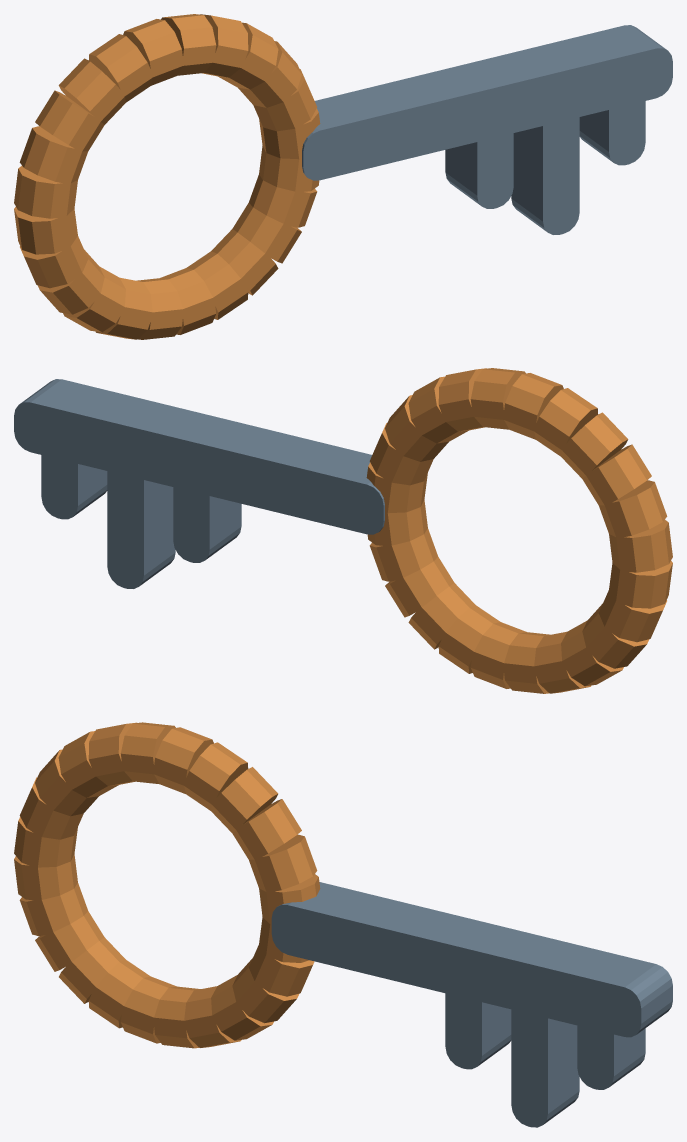
File: key.glb
3 renders of one model, top to bottom at view 1: azimuth 30°, elevation 25°; view 2: azimuth 150°, elevation 25°; view 3: azimuth 330°, elevation 25°, orthographic.
Parts seen in each view (by area): view 1: shaft, tooth 1, tooth 0, tooth 2, key ring10, key ring7, key ring8, key ring9, key ring11, key ring6, key ring12, key ring5 (+16 smaller); view 2: shaft, tooth 1, tooth 0, tooth 2, key ring10, key ring7, key ring8, key ring9, key ring11, key ring6, key ring12, key ring5 (+16 smaller); view 3: shaft, tooth 1, tooth 0, tooth 2, key ring1, key ring4, key ring3, key ring2, key ring5, key ring6, key ring14, key ring15 (+16 smaller).
Boxes of the visible parts, <box> form: shaft: <box>302,25,672,180</box>; tooth 1: <box>511,103,579,234</box>; tooth 0: <box>445,119,513,208</box>; tooth 2: <box>579,87,645,165</box>; key ring10: <box>19,126,88,184</box>; key ring7: <box>88,34,153,102</box>; key ring8: <box>58,58,125,124</box>; key ring9: <box>35,90,104,151</box>; key ring11: <box>14,166,77,218</box>; key ring6: <box>123,19,183,85</box>; key ring12: <box>14,207,77,254</box>; key ring5: <box>161,14,216,75</box>; shaft: <box>14,379,384,534</box>; tooth 1: <box>107,457,175,588</box>; tooth 0: <box>173,473,241,562</box>; tooth 2: <box>41,442,107,519</box>; key ring10: <box>598,480,667,538</box>; key ring7: <box>533,388,598,456</box>; key ring8: <box>561,412,628,478</box>; key ring9: <box>582,444,651,505</box>; key ring11: <box>609,520,672,572</box>; key ring6: <box>503,373,563,439</box>; key ring12: <box>609,561,672,608</box>; key ring5: <box>470,368,525,429</box>; shaft: <box>271,882,672,1037</box>; tooth 1: <box>511,996,579,1127</box>; tooth 0: <box>445,981,511,1069</box>; tooth 2: <box>577,1012,645,1089</box>; key ring1: <box>249,834,317,891</box>; key ring4: <box>183,742,248,810</box>; key ring3: <box>211,767,278,833</box>; key ring2: <box>232,799,301,859</box>; key ring5: <box>154,727,213,793</box>; key ring6: <box>120,722,175,784</box>; key ring14: <box>35,911,104,971</box>; key ring15: <box>59,937,125,1003</box>.
Size of the model in its own units: 1.75 by 0.8228 by 0.15.
